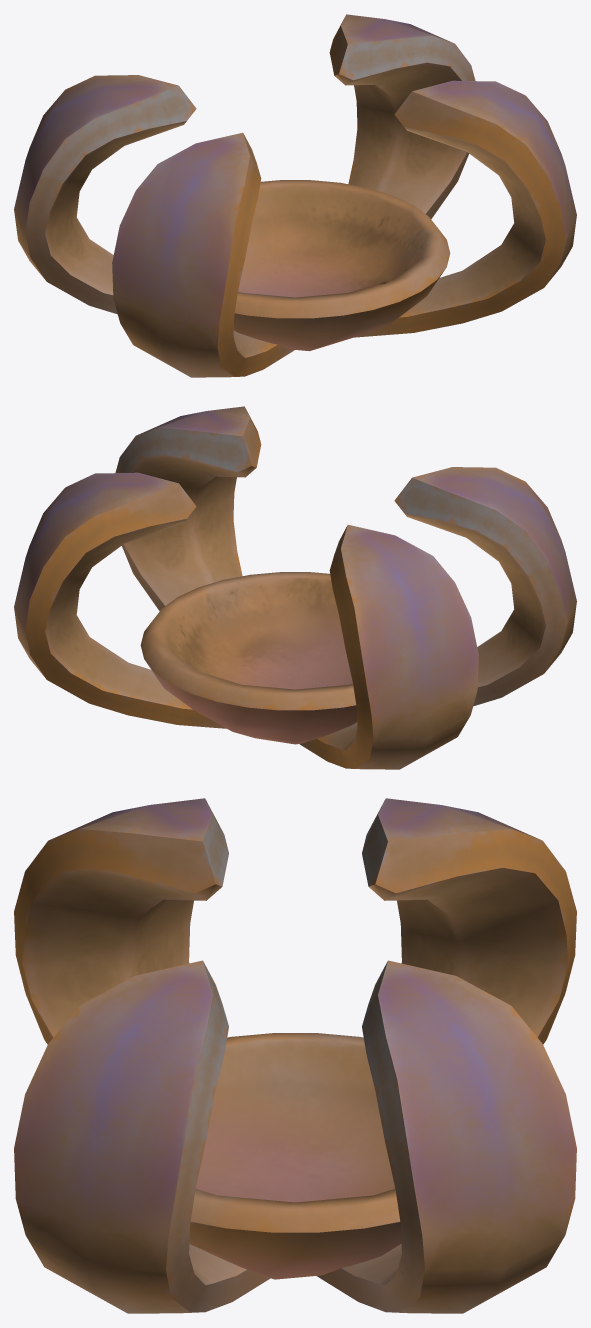
Rendered from SM_Potion_Props_Stand_04.fbx.
The picture shows the model from 3 angles, top to bottom: view 1: azimuth 30°, elevation 25°; view 2: azimuth 150°, elevation 25°; view 3: azimuth 270°, elevation 25°; orthographic projection. The views are drawn at different scales.
Visible parts, largest first — view 1: SM_Potion_Props_Stand_04_LOD0; view 2: SM_Potion_Props_Stand_04_LOD0; view 3: SM_Potion_Props_Stand_04_LOD0.
Part boxes in pixels (box(x1,y1,x2,y2)): SM_Potion_Props_Stand_04_LOD0: box(14, 14, 576, 377); SM_Potion_Props_Stand_04_LOD0: box(14, 406, 576, 769); SM_Potion_Props_Stand_04_LOD0: box(14, 798, 576, 1313).
Size of what is drawn, in the model's own units: 34.76 by 18.16 by 25.98.
